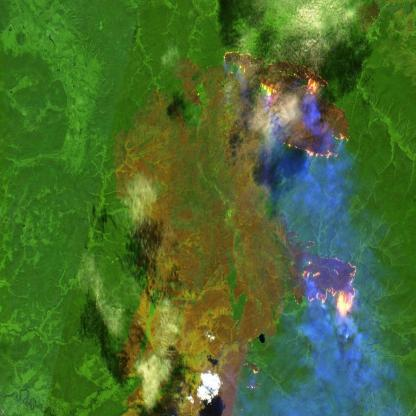fire: (222, 50, 352, 164), (285, 226, 360, 320)
